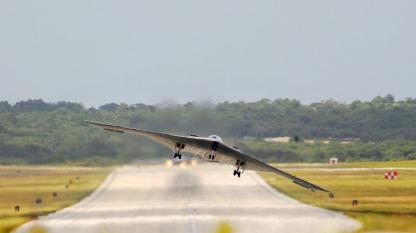B1: (82, 119, 330, 192)
